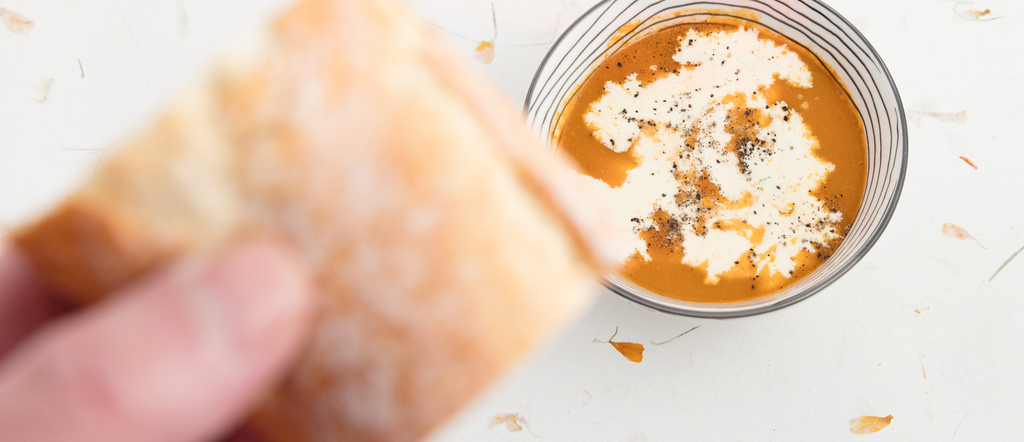slice of bread: (49, 10, 644, 442)
